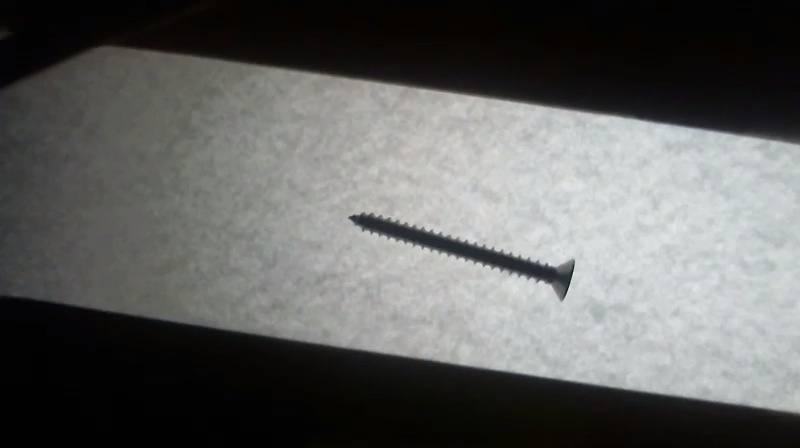S002: (342, 210, 579, 305)
